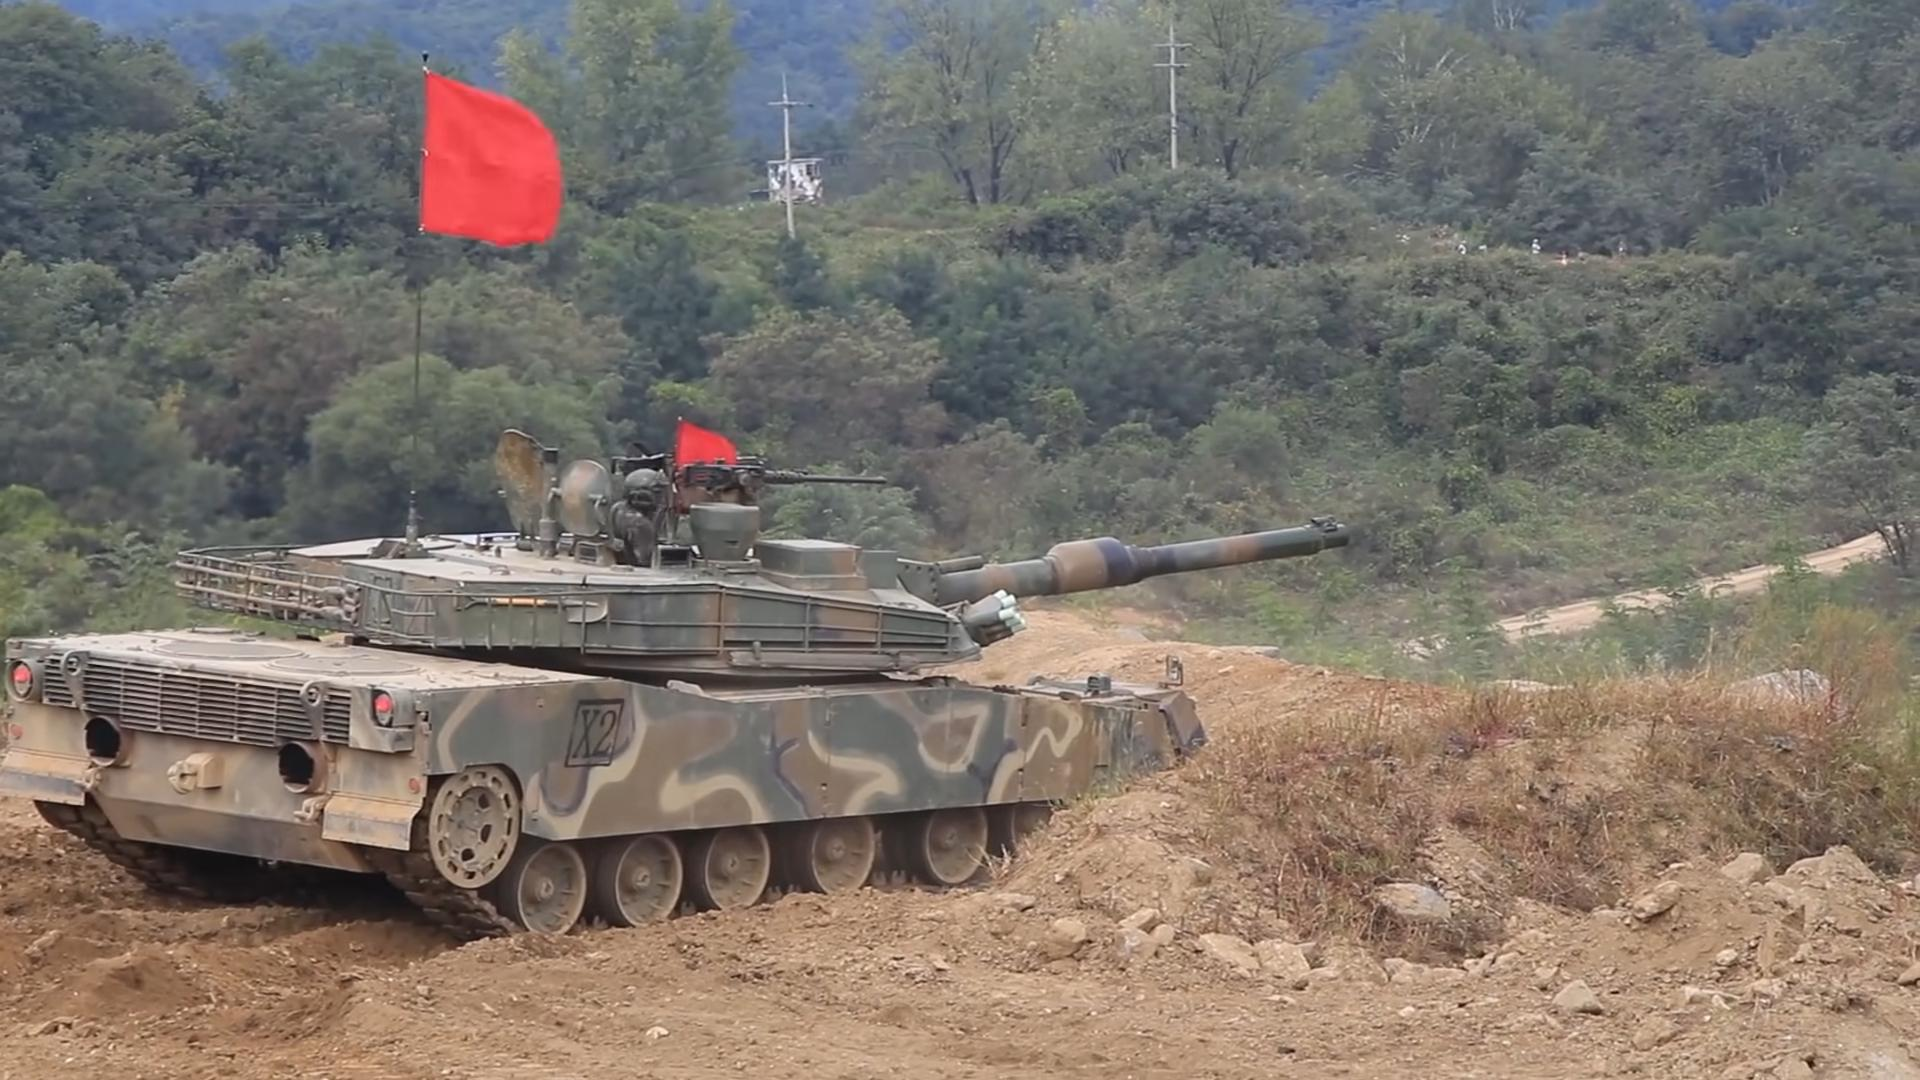tank: (0, 427, 1352, 943)
